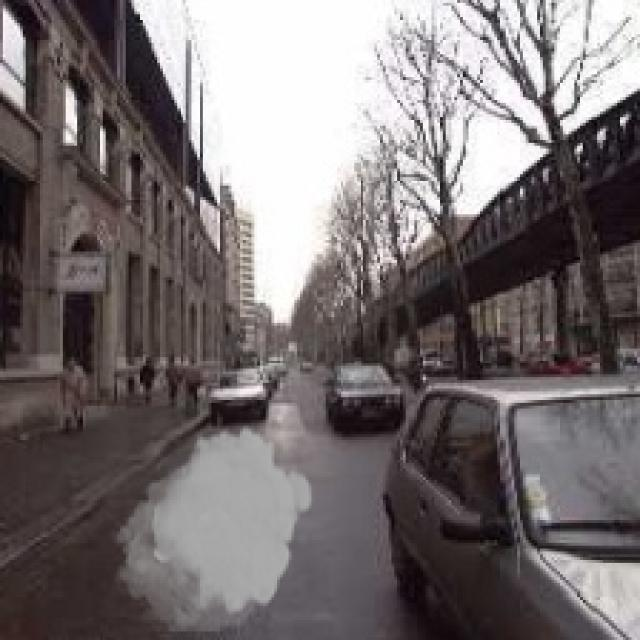Smoke: (108, 423, 314, 631)
